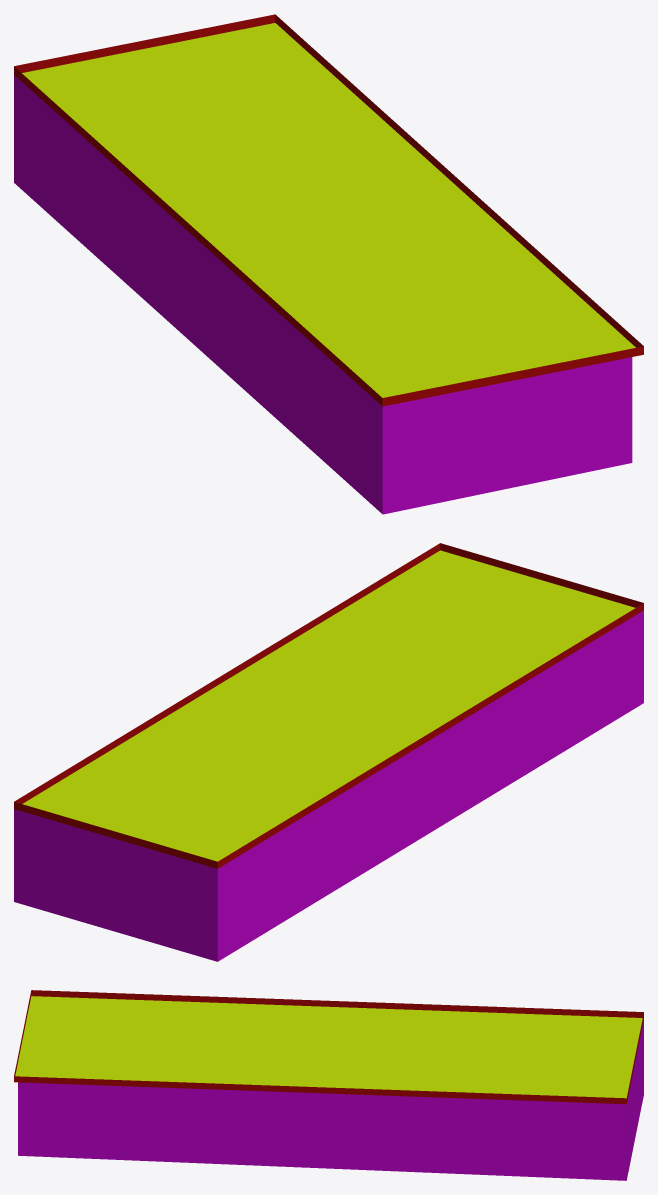
Rendered from bgj_436.glb.
3 renders of one model, top to bottom at view 1: azimuth 30°, elevation 25°; view 2: azimuth 150°, elevation 25°; view 3: azimuth 270°, elevation 25°, orthographic. The views are drawn at different scales.
Parts seen in each view (by area): view 1: bgj_436; view 2: bgj_436; view 3: bgj_436.
Boxes of the visible parts, box(x1,y1,x2,y2) form: bgj_436: box(14, 14, 643, 514); bgj_436: box(14, 543, 643, 961); bgj_436: box(14, 990, 643, 1180).
Size of the model in its own units: 13.52 by 4.81 by 33.27.
